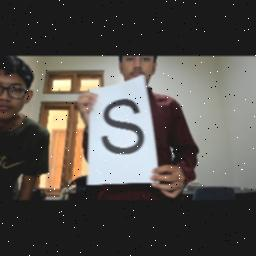s: (98, 98, 146, 156)
